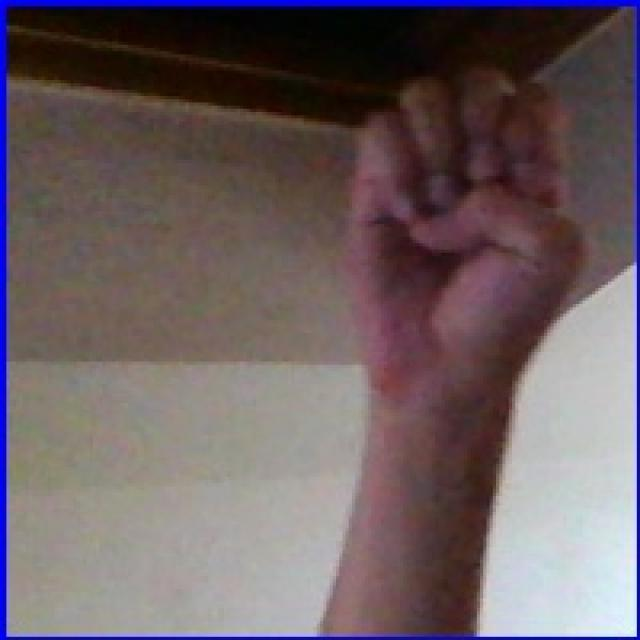Letra E: (313, 49, 602, 426)
